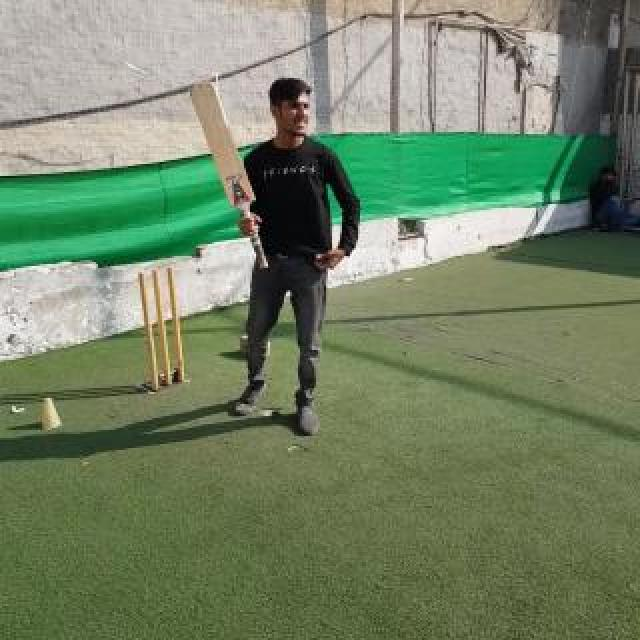bat: (190, 80, 268, 268)
